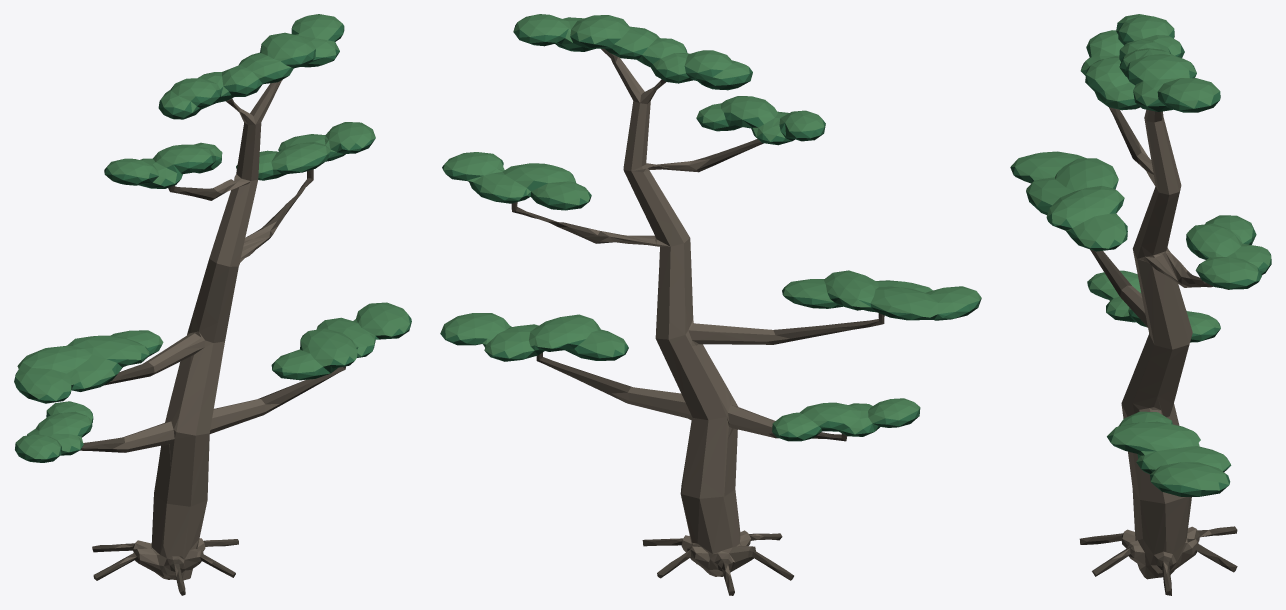
File: ancient-pine-4101-lod0.glb
3 renders of one model, left to right at view 1: azimuth 30°, elevation 25°; view 2: azimuth 150°, elevation 25°; view 3: azimuth 270°, elevation 25°, orthographic. The views are drawn at different scales.
Visible parts, largest first — view 1: n12.004, n8.004, n11.004, n9.004, n10.004; view 2: n12.004, n8.004, n11.004, n9.004, n10.004; view 3: n12.004, n8.004, n11.004, n9.004, n10.004.
Boxes of the visible parts, box(x1,y1,x2,y2) form: n12.004: box(15, 14, 409, 459); n8.004: box(113, 80, 282, 580); n11.004: box(14, 21, 411, 459); n9.004: box(80, 80, 345, 595); n10.004: box(17, 35, 409, 462); n12.004: box(440, 14, 981, 436); n8.004: box(584, 57, 789, 576); n11.004: box(440, 22, 979, 439); n9.004: box(511, 48, 884, 595); n10.004: box(442, 33, 981, 441); n12.004: box(1011, 14, 1271, 490); n8.004: box(1108, 109, 1211, 579); n11.004: box(1010, 22, 1271, 496); n9.004: box(1079, 107, 1237, 595); n10.004: box(1013, 32, 1271, 496).
Bounding box in the file's own units: 5 × 5.43 × 2.23.
